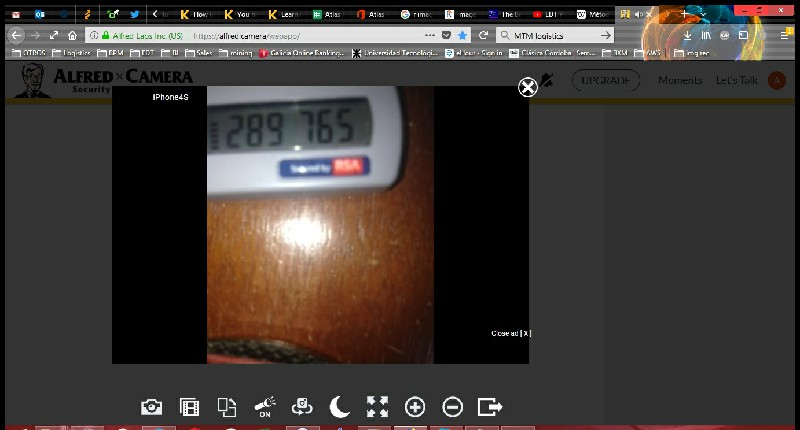display: (206, 99, 366, 154)
